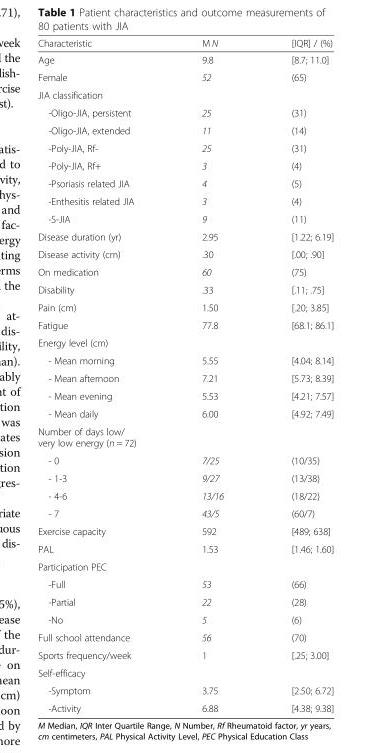table: (37, 37, 333, 713)
table column: (37, 37, 167, 713), (167, 37, 256, 713), (256, 37, 333, 713)
table column header: (37, 37, 333, 50)
table projected row header: (37, 422, 333, 451), (37, 85, 333, 103), (37, 333, 333, 351), (37, 557, 333, 575), (37, 663, 333, 681)
table row: (37, 422, 333, 451), (37, 50, 333, 68), (37, 85, 333, 103), (37, 103, 333, 121), (37, 138, 333, 156), (37, 156, 333, 174), (37, 174, 333, 192), (37, 209, 333, 227), (37, 227, 333, 245), (37, 262, 333, 280), (37, 280, 333, 298), (37, 315, 333, 333), (37, 333, 333, 351), (37, 351, 333, 369), (37, 386, 333, 404), (37, 404, 333, 422), (37, 468, 333, 486), (37, 486, 333, 504), (37, 504, 333, 522), (37, 539, 333, 557), (37, 557, 333, 575), (37, 592, 333, 610), (37, 610, 333, 628), (37, 645, 333, 663), (37, 663, 333, 681), (37, 681, 333, 699), (37, 68, 333, 85), (37, 121, 333, 138), (37, 192, 333, 209), (37, 245, 333, 262), (37, 298, 333, 315), (37, 369, 333, 386), (37, 451, 333, 468), (37, 522, 333, 539), (37, 575, 333, 592), (37, 628, 333, 645), (37, 699, 333, 713), (37, 37, 333, 50)
